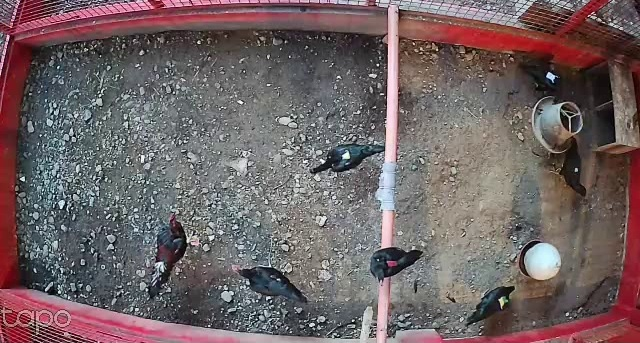Chicken: (306, 139, 386, 179), (232, 262, 307, 304), (547, 133, 590, 201), (462, 281, 517, 331), (366, 240, 425, 286), (520, 54, 568, 97)
Rooster: (145, 209, 197, 297)
Saddle_Color_Red: (386, 259, 400, 268)
Saddle_Color_White: (546, 69, 557, 82)
Saddle_Color_Yellow: (342, 148, 350, 163)
Saddle_Color_YellowGreen: (499, 294, 508, 307)
